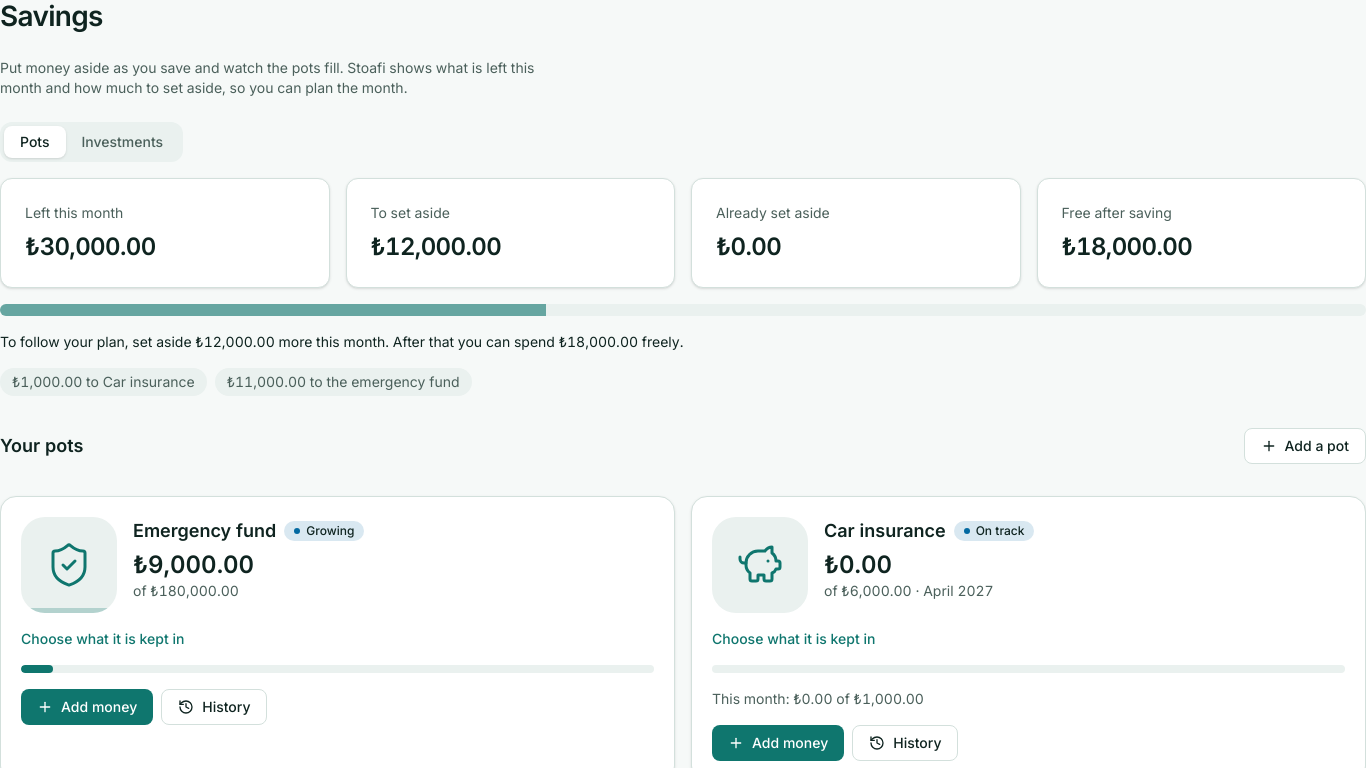
Test: Savings screen › puts money into a pot: balance, history and storage all follow
Click the button "Add money" below "On track": point(778, 743) [712,725,844,761]
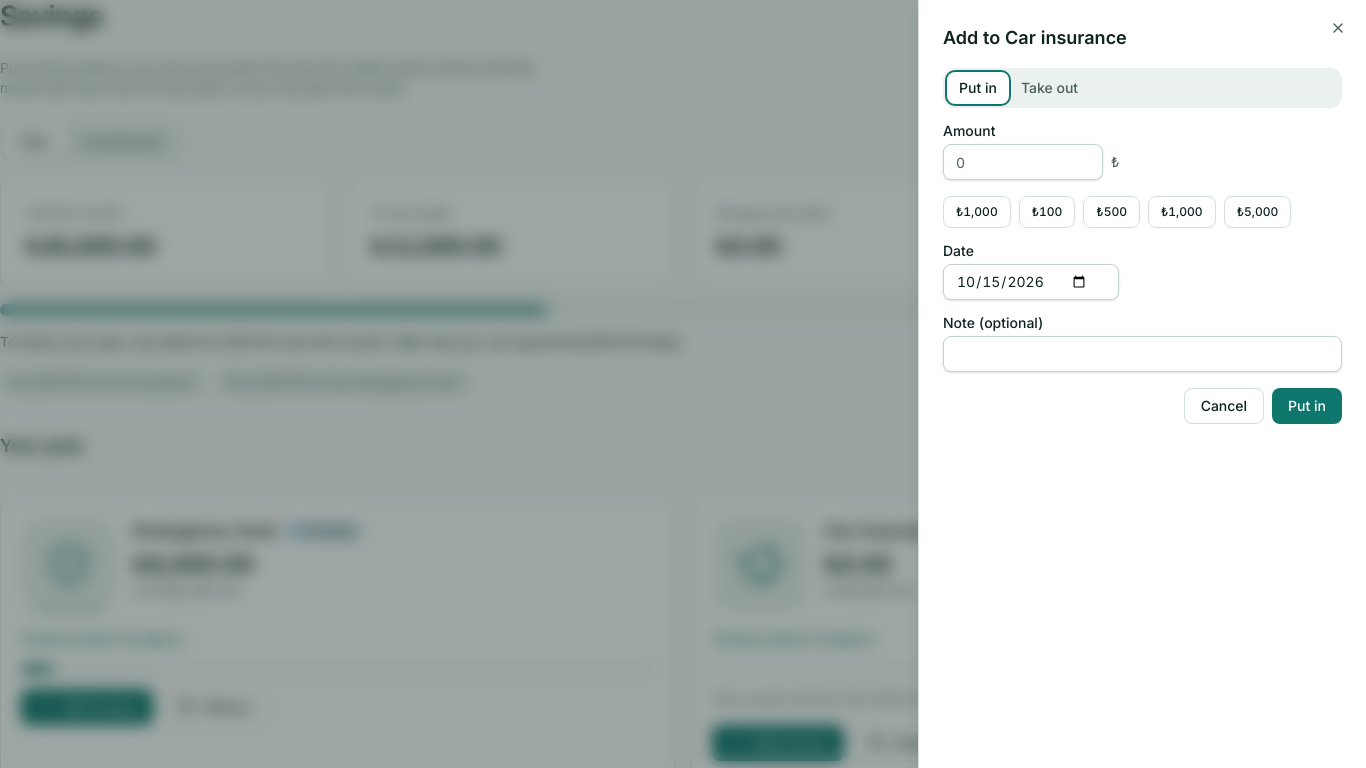
In the field labelled "Amount": point(1023, 162) [943,144,1103,180], type "1500"
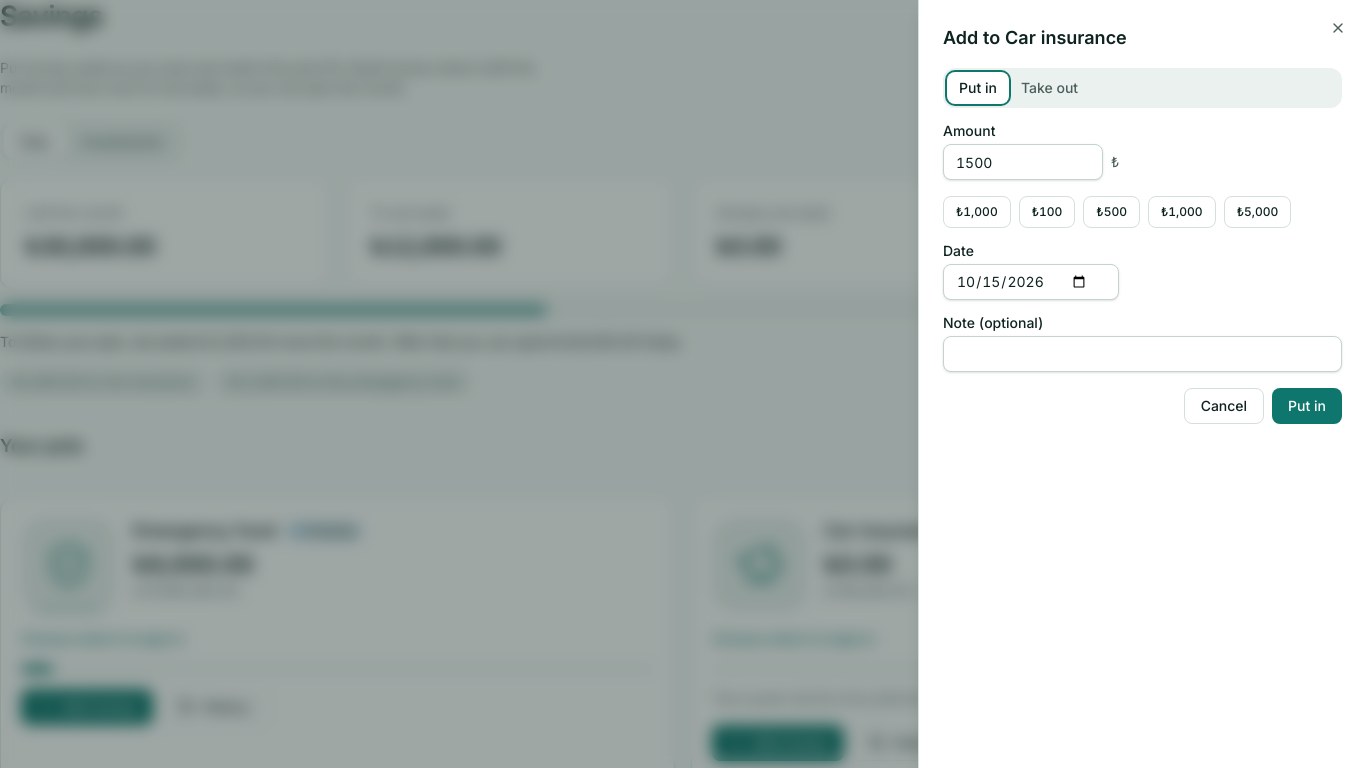
Click the button "Put in": point(1307, 406) [1272,388,1342,424]
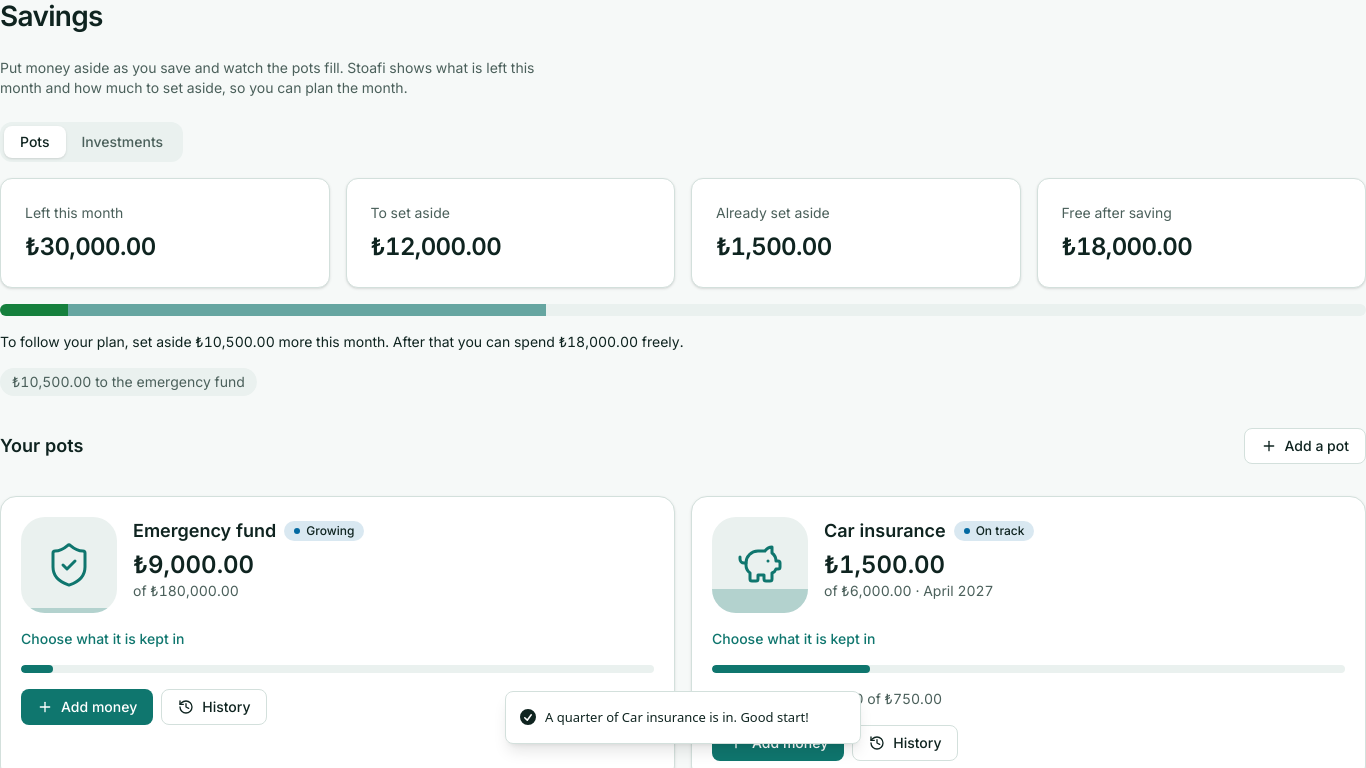
Check: the text "A quarter of Car insurance is in. Good start!" is shown, box [545,708,809,727]
